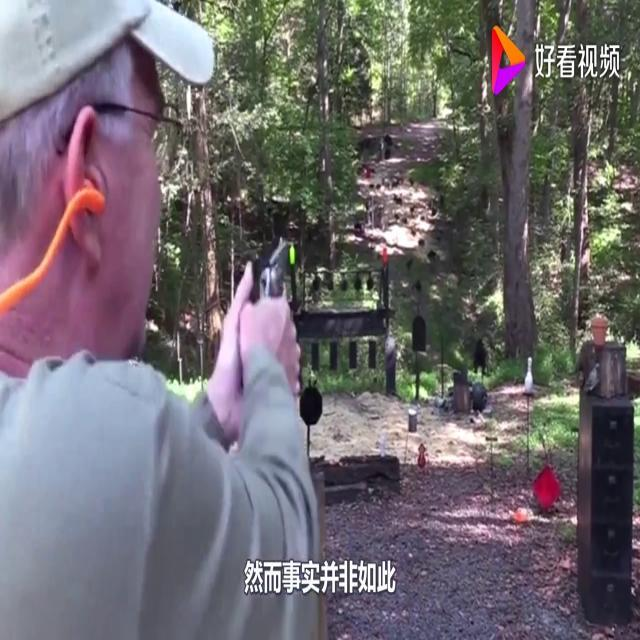gun-knife-thesis - v11 Yolov5 augmented: (223, 221, 319, 411)
